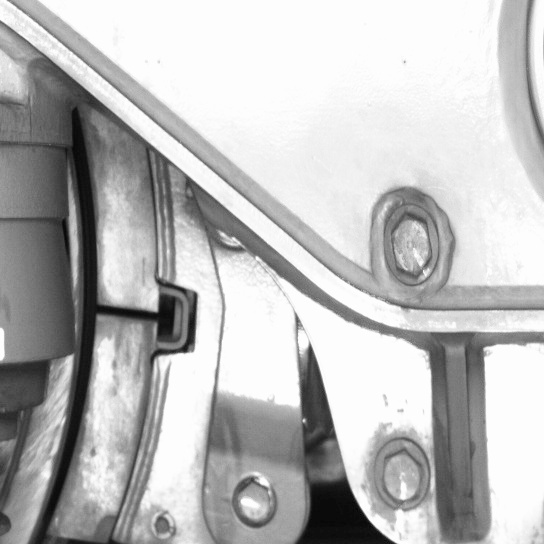KnifeSwitch: (24, 143, 143, 541)
